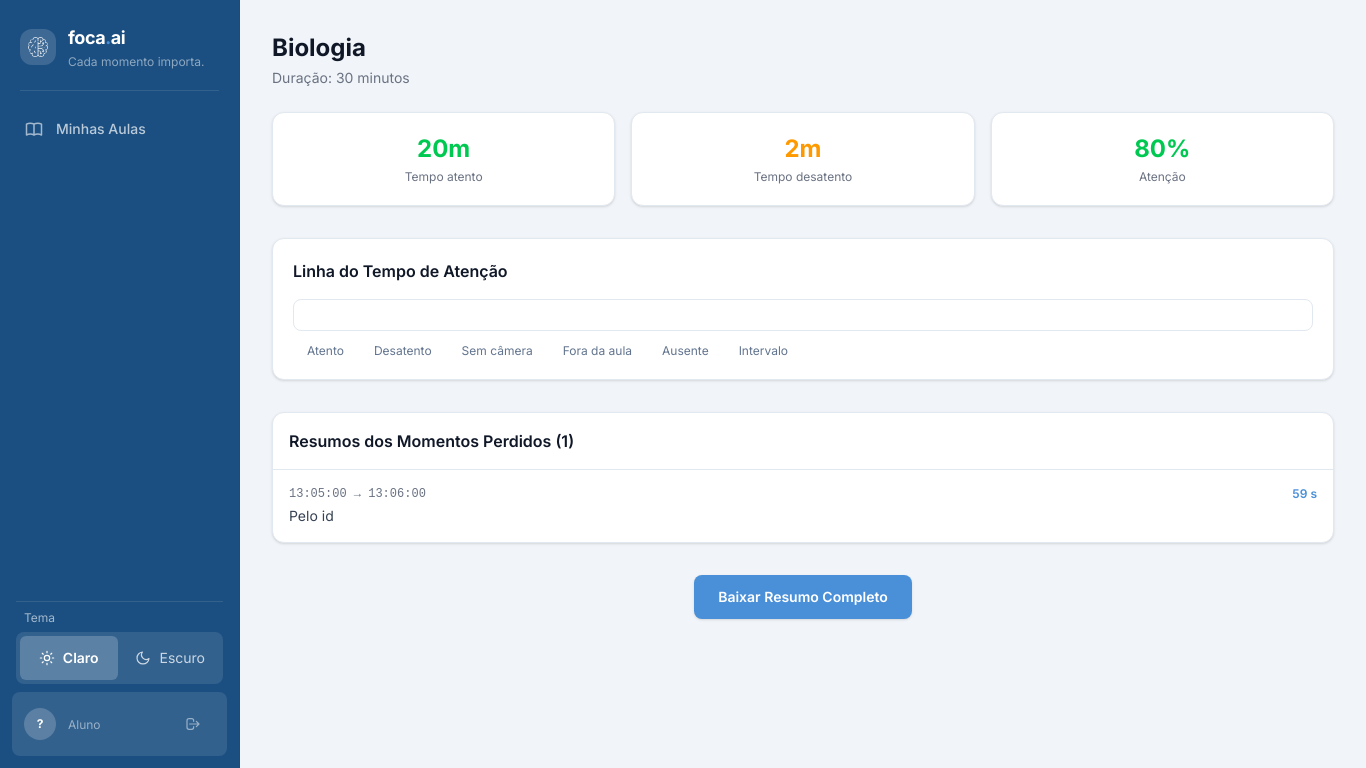
Test: Revisão da aula (#5) › CA9: com attention_event_id, casa pelo id mesmo com instantes diferentes
The width and height of the screenshot is (1366, 768).
Click the button named "Desatento: 1 min — abrir resumo".
click(486, 322)  # box [464, 300, 508, 344]
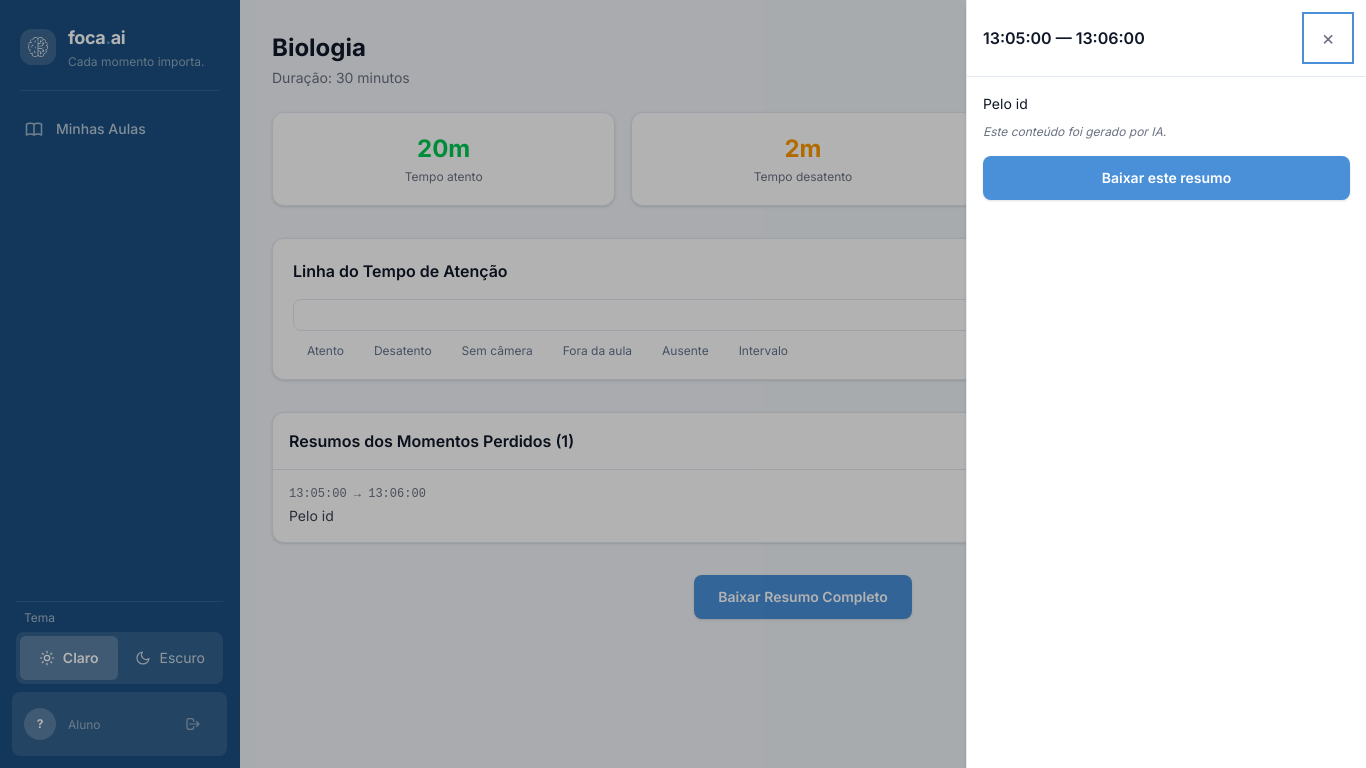
Expected: the dialog shows "Pelo id", [983, 95, 1028, 112]
